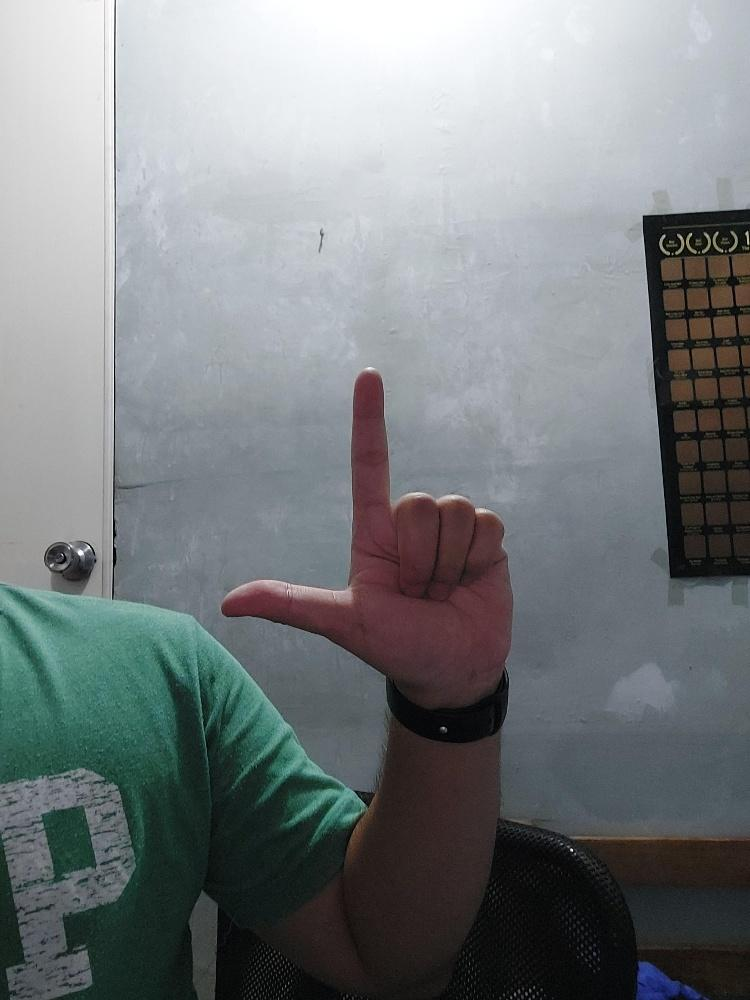l: (220, 359, 514, 691)
